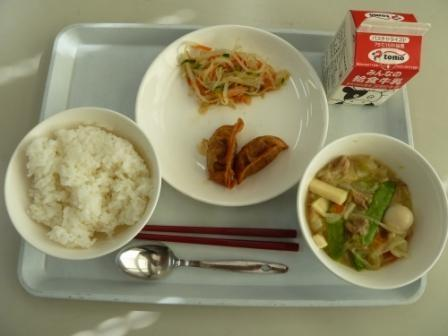Milk: (320, 10, 434, 109)
Rice: (3, 111, 165, 256)
Salad: (173, 32, 293, 113)
tushpara-fried: (189, 116, 293, 192)
vegetable based cooked food: (301, 139, 444, 278)
